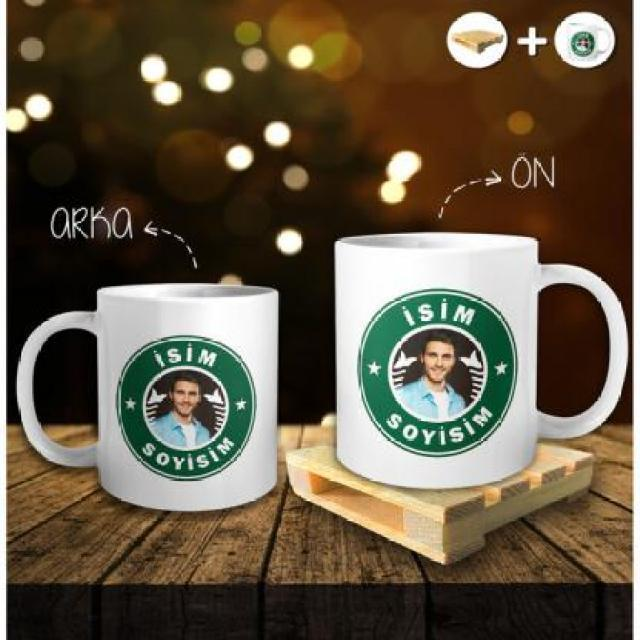taza: (331, 228, 630, 494), (13, 283, 280, 515)
